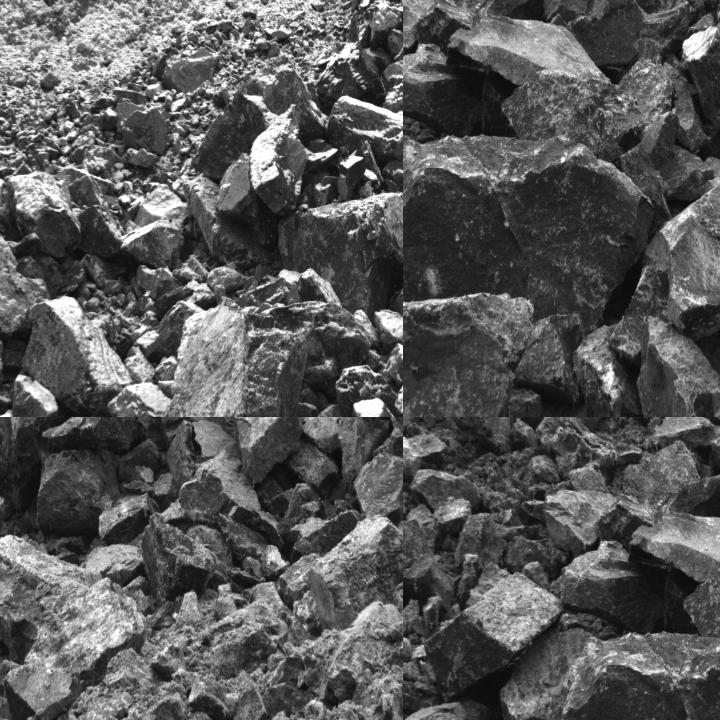stone: (403, 135, 650, 334), (0, 532, 150, 679), (152, 294, 316, 416), (424, 574, 562, 702), (278, 192, 402, 316), (403, 297, 532, 416), (21, 286, 133, 416), (557, 541, 703, 639), (558, 632, 719, 719), (500, 71, 644, 164), (193, 89, 277, 240), (403, 44, 522, 143), (642, 184, 719, 335), (454, 12, 609, 86), (308, 517, 402, 635), (500, 624, 609, 719), (187, 170, 283, 274), (178, 441, 280, 538), (569, 0, 691, 78), (637, 318, 719, 416), (544, 489, 659, 556), (36, 448, 120, 534), (142, 514, 214, 604), (573, 324, 643, 416), (608, 261, 669, 366), (6, 170, 82, 254), (252, 103, 310, 212), (635, 509, 719, 584), (537, 417, 618, 494), (9, 417, 141, 462), (264, 58, 330, 141), (0, 235, 48, 349), (517, 312, 580, 398), (225, 417, 303, 486), (325, 95, 402, 164), (0, 658, 80, 719), (214, 150, 266, 240), (37, 417, 138, 462), (403, 0, 477, 60), (341, 417, 391, 499), (681, 24, 719, 130), (0, 417, 42, 512), (682, 567, 719, 662), (354, 452, 402, 522), (163, 42, 219, 100), (98, 492, 160, 544), (122, 216, 184, 266), (287, 441, 339, 499), (403, 127, 427, 244), (337, 367, 393, 416), (117, 106, 169, 156), (77, 206, 126, 257), (219, 514, 267, 564), (276, 553, 320, 607), (448, 417, 508, 456), (153, 417, 226, 449), (649, 417, 717, 450), (642, 110, 680, 166), (110, 383, 172, 416), (166, 421, 195, 490), (12, 374, 59, 416), (136, 264, 182, 302), (302, 417, 343, 454), (369, 10, 403, 49), (385, 347, 402, 416), (545, 0, 598, 21), (125, 345, 155, 382), (380, 76, 402, 117), (351, 400, 402, 416), (388, 30, 402, 60)
